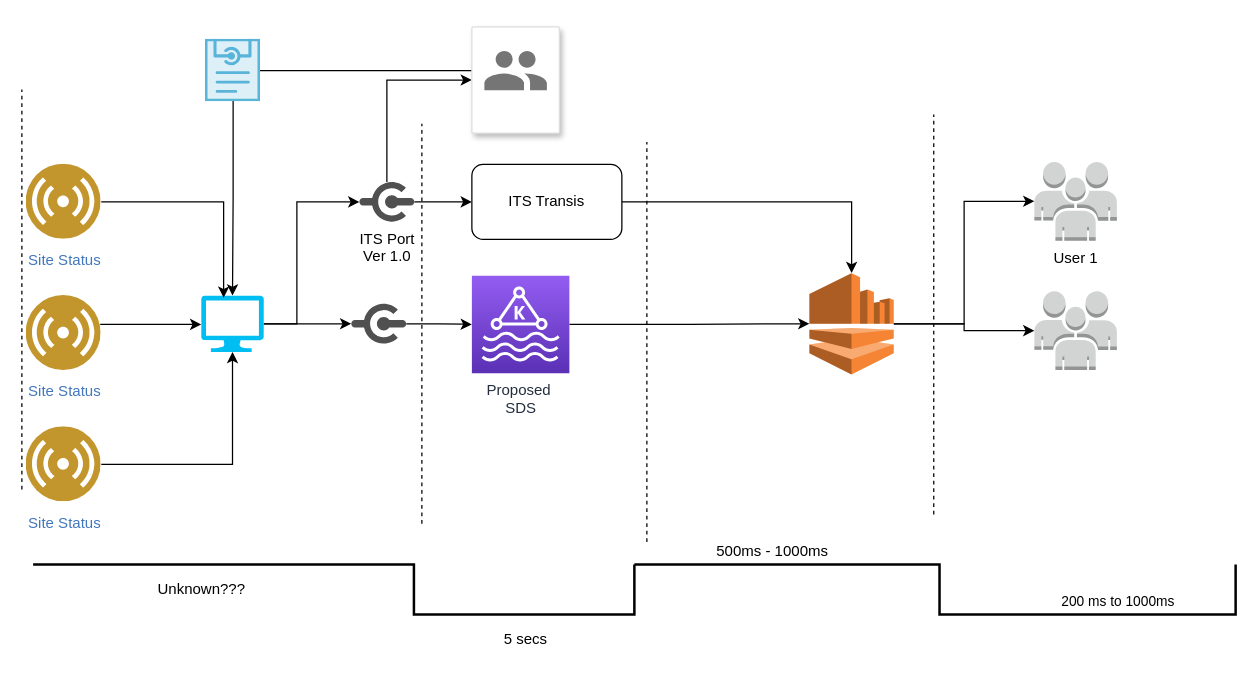
This 1259x674 diagram has some shape labels left out. Here are the shapes that lost their labels. From the top down, the centre of each, then its label:
At [516,81]: "Cubic".
At [232,323]: "SCATS Central Site Manager".
At [378,323]: "ITS Port Ver 2.0".
At [851,323]: "NAI Data Distribution".
